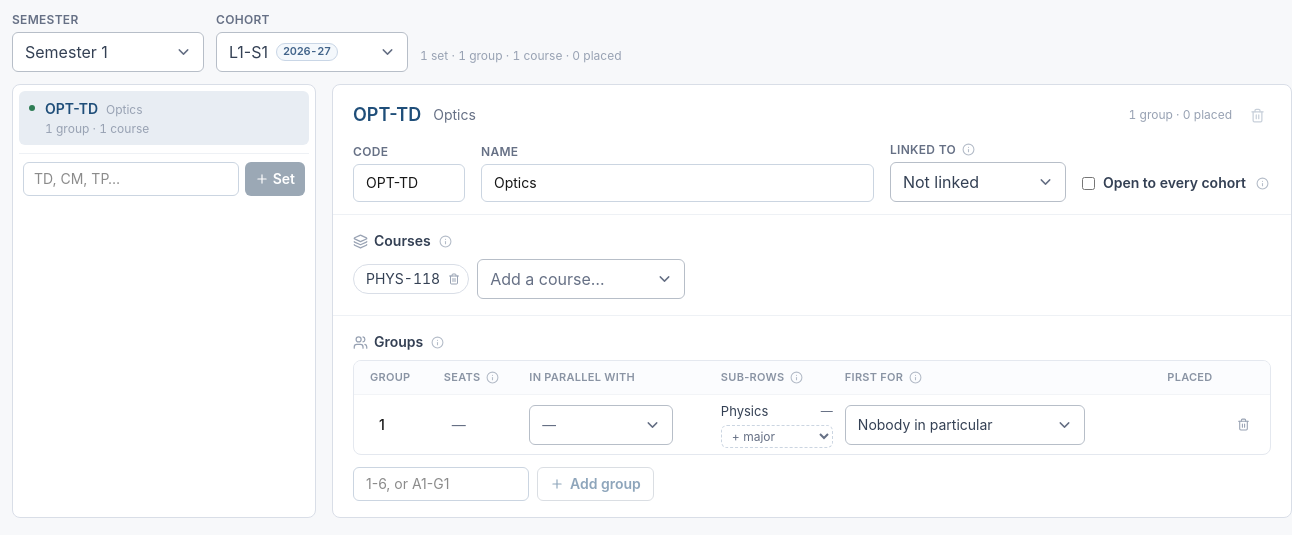
it: adding a set › is offered in a semester linked to a portal term
The image size is (1292, 535).
In the field named "New set": (131, 179) [23,162,239,196], type "TP"
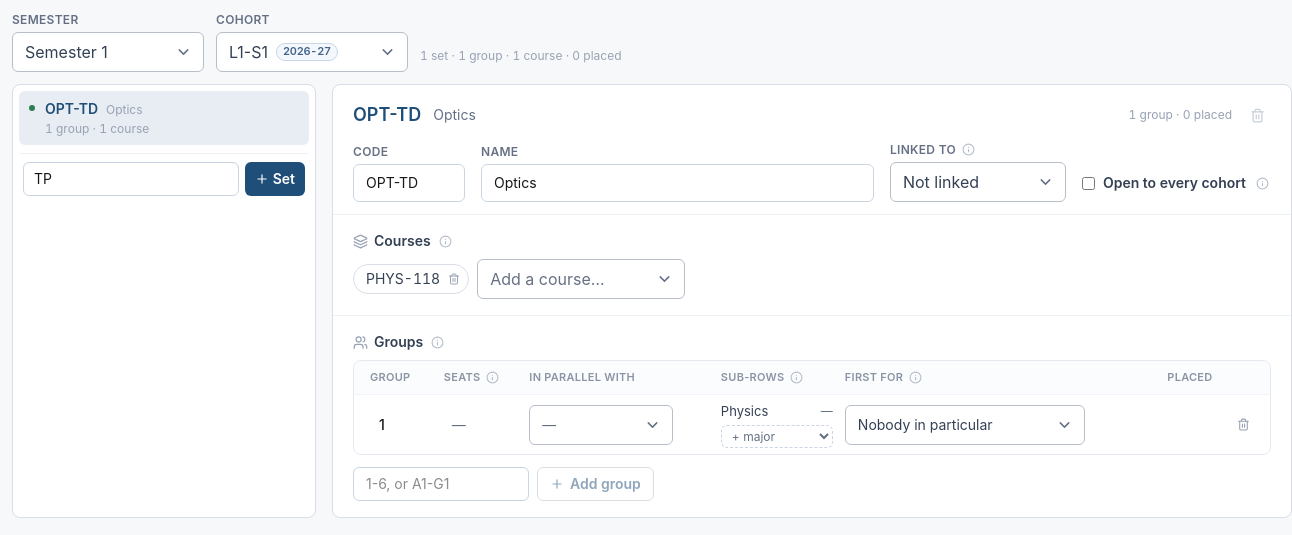
Expected: the button "Set" is enabled, [245,162,305,196]
